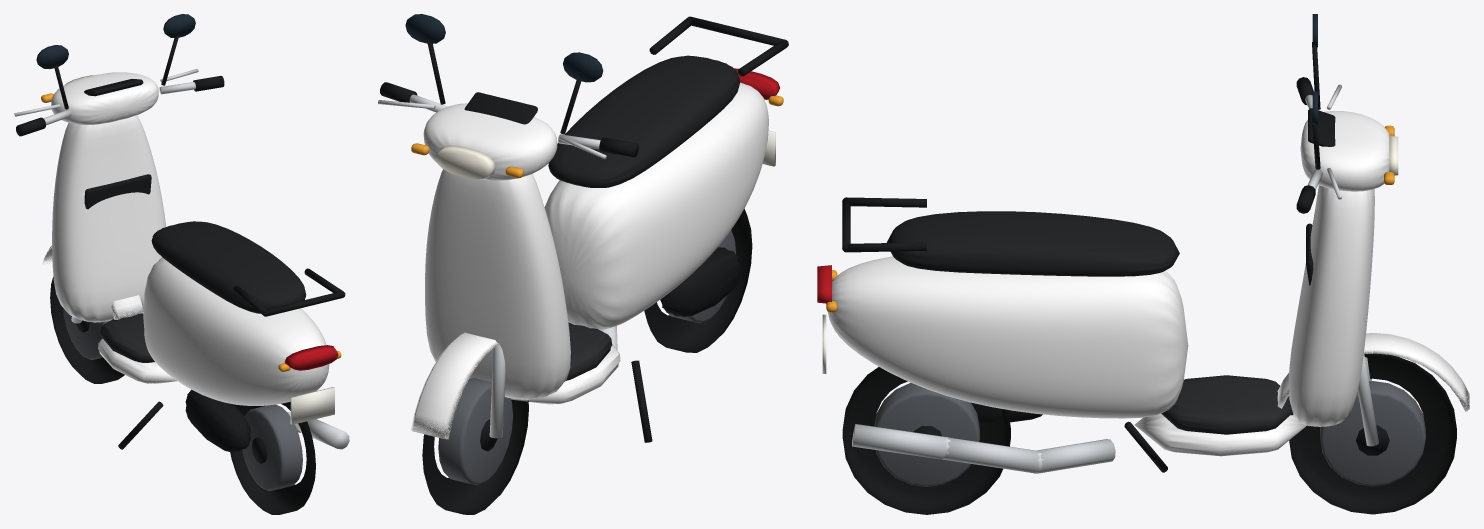
Rendered from two_wheeler.glb.
3 renders of one model, left to right at view 1: azimuth 30°, elevation 25°; view 2: azimuth 150°, elevation 25°; view 3: azimuth 270°, elevation 25°, orthographic. The views are drawn at different scales.
Visible parts, largest first — view 1: two_wheeler_apron, two_wheeler_rear, two_wheeler_seat, two_wheeler_cowl, two_wheeler_wheel_r_rim, two_wheeler_wheel_r_tyre, two_wheeler_engine, two_wheeler_wheel_f_tyre, two_wheeler_floor, two_wheeler_floor_skirt, two_wheeler_plate_b, two_wheeler_apron_in (+9 smaller); view 2: two_wheeler_rear, two_wheeler_apron, two_wheeler_seat, two_wheeler_cowl, two_wheeler_wheel_f_rim, two_wheeler_guard_f, two_wheeler_wheel_f_tyre, two_wheeler_wheel_r_tyre, two_wheeler_engine, two_wheeler_floor, two_wheeler_floor_skirt, two_wheeler_headlamp (+12 smaller); view 3: two_wheeler_rear, two_wheeler_seat, two_wheeler_apron, two_wheeler_wheel_f_tyre, two_wheeler_wheel_r_tyre, two_wheeler_wheel_f_rim, two_wheeler_wheel_r_rim, two_wheeler_floor, two_wheeler_cowl, two_wheeler_floor_skirt, two_wheeler_guard_f, two_wheeler_exhaust_2 (+6 smaller).
Part boxes in pixels (left/top/right/bottom): two_wheeler_apron: left=52, top=115, right=166, bottom=322; two_wheeler_rear: left=143, top=257, right=329, bottom=405; two_wheeler_seat: left=151, top=221, right=306, bottom=313; two_wheeler_cowl: left=51, top=72, right=158, bottom=124; two_wheeler_wheel_r_rim: left=242, top=404, right=302, bottom=490; two_wheeler_wheel_r_tyre: left=230, top=402, right=315, bottom=514; two_wheeler_engine: left=185, top=389, right=250, bottom=452; two_wheeler_wheel_f_tyre: left=50, top=277, right=124, bottom=383; two_wheeler_floor: left=100, top=313, right=154, bottom=362; two_wheeler_floor_skirt: left=98, top=338, right=176, bottom=383; two_wheeler_plate_b: left=290, top=387, right=334, bottom=424; two_wheeler_apron_in: left=84, top=174, right=151, bottom=209; two_wheeler_rear: left=544, top=82, right=768, bottom=329; two_wheeler_apron: left=425, top=169, right=570, bottom=399; two_wheeler_seat: left=548, top=55, right=740, bottom=187; two_wheeler_cowl: left=423, top=103, right=557, bottom=180; two_wheeler_wheel_f_rim: left=438, top=378, right=513, bottom=484; two_wheeler_guard_f: left=411, top=332, right=498, bottom=439; two_wheeler_wheel_f_tyre: left=422, top=399, right=528, bottom=514; two_wheeler_wheel_r_tyre: left=644, top=208, right=752, bottom=352; two_wheeler_engine: left=660, top=247, right=740, bottom=316; two_wheeler_floor: left=566, top=322, right=612, bottom=380; two_wheeler_floor_skirt: left=510, top=346, right=620, bottom=404; two_wheeler_headlamp: left=436, top=145, right=495, bottom=179; two_wheeler_rear: left=826, top=256, right=1188, bottom=418; two_wheeler_seat: left=886, top=211, right=1179, bottom=276; two_wheeler_apron: left=1289, top=185, right=1374, bottom=426; two_wheeler_wheel_f_tyre: left=1289, top=353, right=1456, bottom=514; two_wheeler_wheel_r_tyre: left=842, top=367, right=1010, bottom=514; two_wheeler_wheel_f_rim: left=1320, top=381, right=1425, bottom=486; two_wheeler_wheel_r_rim: left=874, top=382, right=979, bottom=486; two_wheeler_floor: left=1161, top=375, right=1292, bottom=434; two_wheeler_cowl: left=1300, top=111, right=1389, bottom=191; two_wheeler_floor_skirt: left=1134, top=413, right=1306, bottom=456; two_wheeler_guard_f: left=1277, top=333, right=1469, bottom=411; two_wheeler_exhaust_2: left=852, top=424, right=946, bottom=459.
Bounding box in the file's own units: 0.8056 × 1.37 × 1.78.
